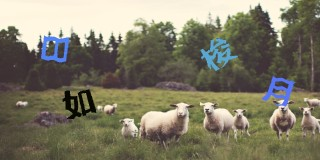如: (62, 89, 98, 119)
日: (41, 34, 69, 62)
月: (262, 76, 294, 107)
梭: (199, 38, 238, 71)
